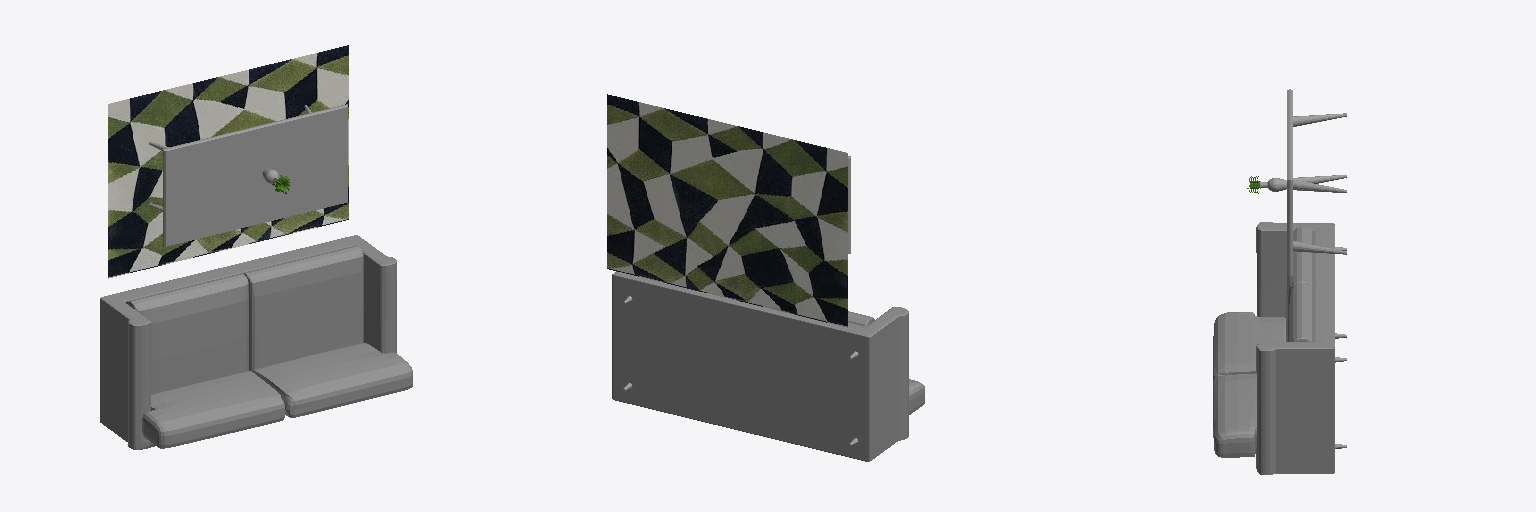
3 views of the same model, side by side, from view 1: azimuth 30°, elevation 25°; view 2: azimuth 150°, elevation 25°; view 3: azimuth 270°, elevation 25° (orthographic).
Parts seen in each view (by area): view 1: Plane_Plane.001, Cube.006_Cube.030, Cube_Cube.002, Cube.003_Cube.001_Cube.003_Cube.000, Cube.001_Cube.001_Cube.001_Cube.000, Cube.006_Cube.001_Cube.006_Cube.000, Cube.004_Cube.001_Cube.004_Cube.000; view 2: Plane_Plane.001, Cube_Cube.002; view 3: Cube_Cube.002, Cube.004_Cube.001_Cube.004_Cube.000, Cube.006_Cube.001_Cube.006_Cube.000, Cube.003_Cube.001_Cube.003_Cube.000, Cube.001_Cube.001_Cube.001_Cube.000, Cube.006_Cube.030.
Boxes of the visible parts, x1=… form: Plane_Plane.001: x1=108, y1=45, x2=348, y2=278; Cube.006_Cube.030: x1=163, y1=104, x2=347, y2=246; Cube_Cube.002: x1=100, y1=235, x2=396, y2=449; Cube.003_Cube.001_Cube.003_Cube.000: x1=242, y1=246, x2=363, y2=370; Cube.001_Cube.001_Cube.001_Cube.000: x1=126, y1=273, x2=248, y2=393; Cube.006_Cube.001_Cube.006_Cube.000: x1=142, y1=371, x2=285, y2=448; Cube.004_Cube.001_Cube.004_Cube.000: x1=252, y1=343, x2=412, y2=417; Plane_Plane.001: x1=607, y1=94, x2=847, y2=327; Cube_Cube.002: x1=612, y1=271, x2=908, y2=461; Cube_Cube.002: x1=1256, y1=222, x2=1334, y2=474; Cube.004_Cube.001_Cube.004_Cube.000: x1=1213, y1=374, x2=1256, y2=457; Cube.006_Cube.001_Cube.006_Cube.000: x1=1213, y1=312, x2=1285, y2=384; Cube.003_Cube.001_Cube.003_Cube.000: x1=1289, y1=283, x2=1312, y2=341; Cube.001_Cube.001_Cube.001_Cube.000: x1=1286, y1=227, x2=1312, y2=341; Cube.006_Cube.030: x1=1287, y1=89, x2=1292, y2=275.
Bounding box in the file's own units: 2 × 2.24 × 0.8784.
7 materials, 2 textured.